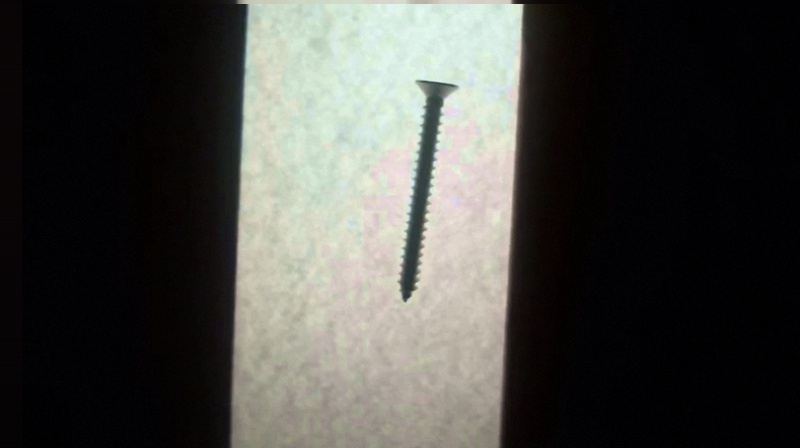S002: (395, 76, 462, 306)
